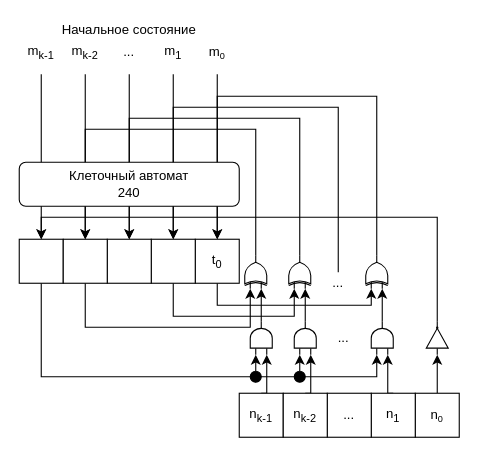
Some shapes in this 479 by 457 pixel diagram are drawn without their labels. The centre of each missing label's shape, as x and y in pixels:
t 1: point (172, 260)
t k-1: point (40, 260)
t k-2: point (84, 260)
